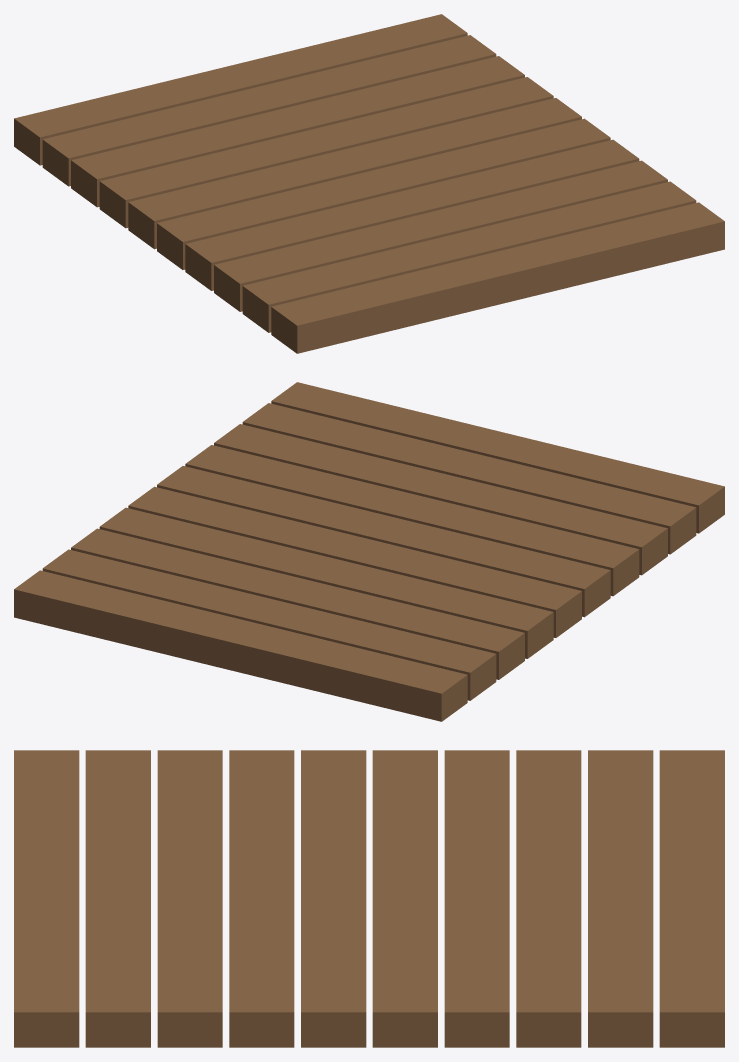
File: Darwbridge.obj
3 renders of one model, top to bottom at view 1: azimuth 30°, elevation 25°; view 2: azimuth 150°, elevation 25°; view 3: azimuth 270°, elevation 25°, orthographic. The views are drawn at different scales.
Visible parts, largest first — view 1: 立方体; view 2: 立方体; view 3: 立方体.
Part boxes in pixels (x1=…): 立方体: x1=14, y1=14, x2=724, y2=353; 立方体: x1=14, y1=382, x2=724, y2=721; 立方体: x1=14, y1=750, x2=724, y2=1047.
Bounding box in the file's own units: 1.85 × 0.1161 × 2.12.
